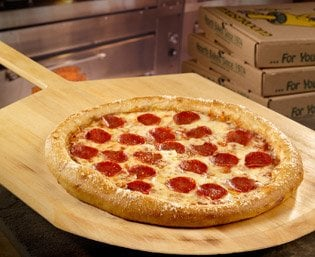sandwich: (44, 95, 308, 228)
